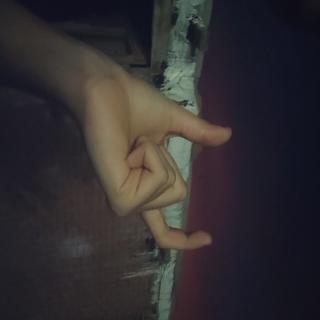NOON: (40, 118, 202, 320)
